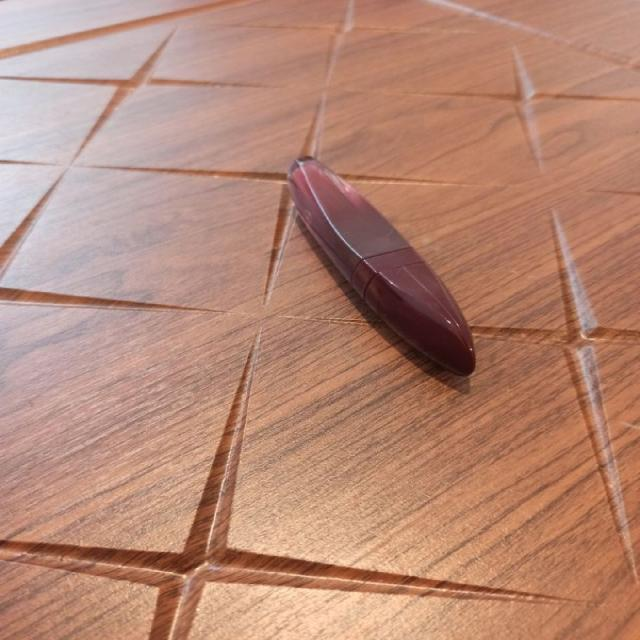lipstick: (285, 155, 477, 377)
